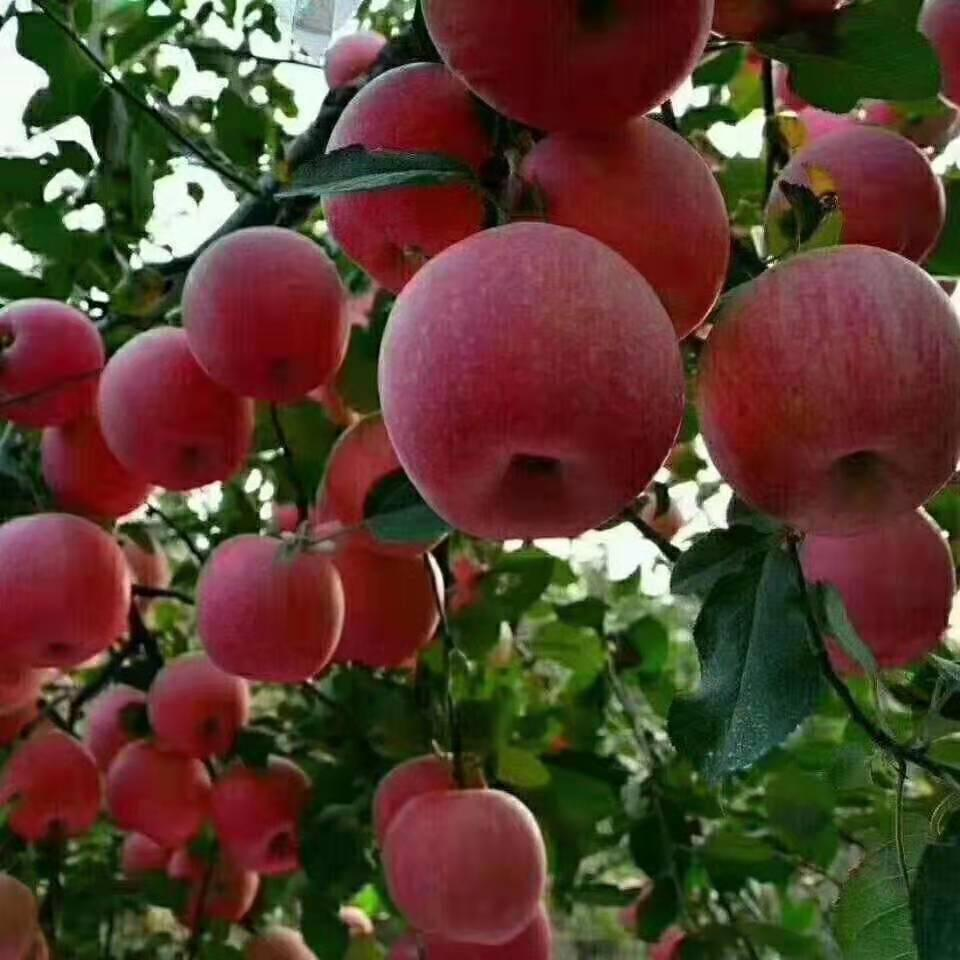apple: (379, 223, 701, 543), (696, 240, 958, 537), (322, 60, 526, 299), (417, 2, 729, 133), (183, 223, 349, 400), (380, 784, 545, 942), (98, 328, 250, 491), (200, 533, 350, 685), (1, 506, 131, 676), (1, 293, 104, 431), (208, 753, 314, 878), (3, 725, 104, 842), (148, 654, 252, 752)
